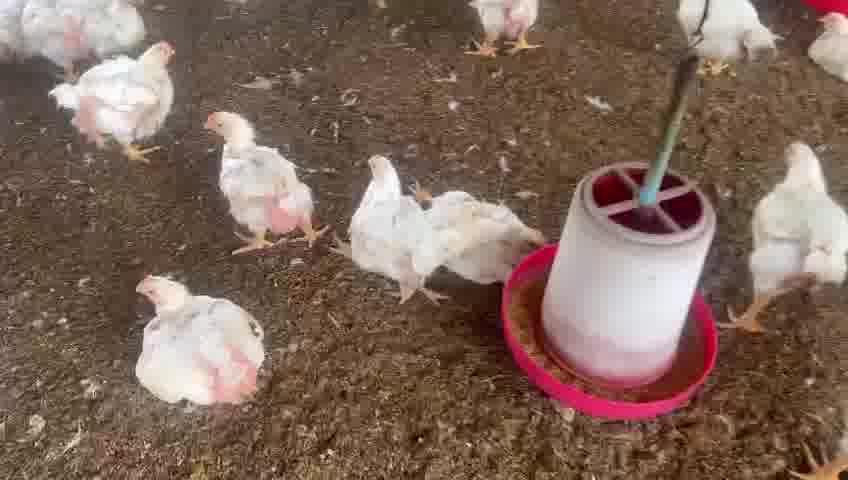AbNormal: (134, 276, 265, 407), (810, 11, 848, 82)
Normal: (728, 143, 846, 330), (207, 107, 321, 253), (54, 37, 178, 162), (336, 155, 432, 299), (465, 3, 540, 62)
